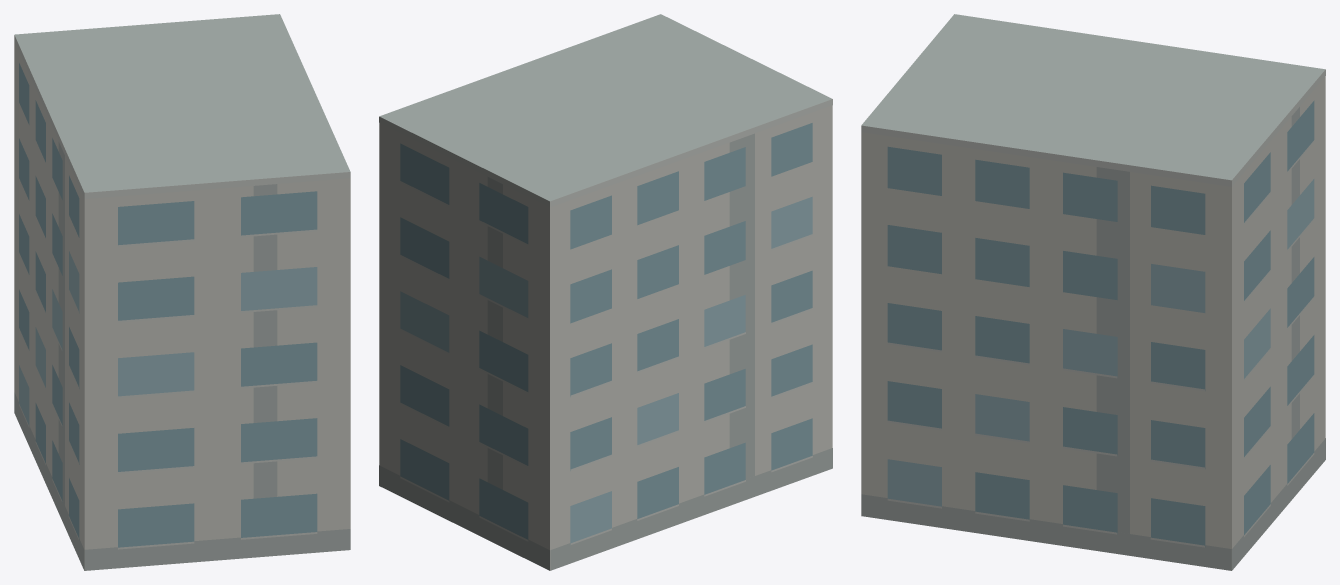
File: survey-upis-32886761.glb
3 views of the same model, side by side, from view 1: azimuth 30°, elevation 25°; view 2: azimuth 150°, elevation 25°; view 3: azimuth 270°, elevation 25° (orthographic). The views are drawn at different scales.
Visible parts, largest first — view 1: survey-upis-32886761.tmp; view 2: survey-upis-32886761.tmp; view 3: survey-upis-32886761.tmp.
Boxes of the visible parts, x1=… form: survey-upis-32886761.tmp: x1=14, y1=14, x2=350, y2=570; survey-upis-32886761.tmp: x1=379, y1=14, x2=832, y2=570; survey-upis-32886761.tmp: x1=861, y1=14, x2=1325, y2=570.
Bounding box in the file's own units: 13.16 × 14.4 × 15.53.
